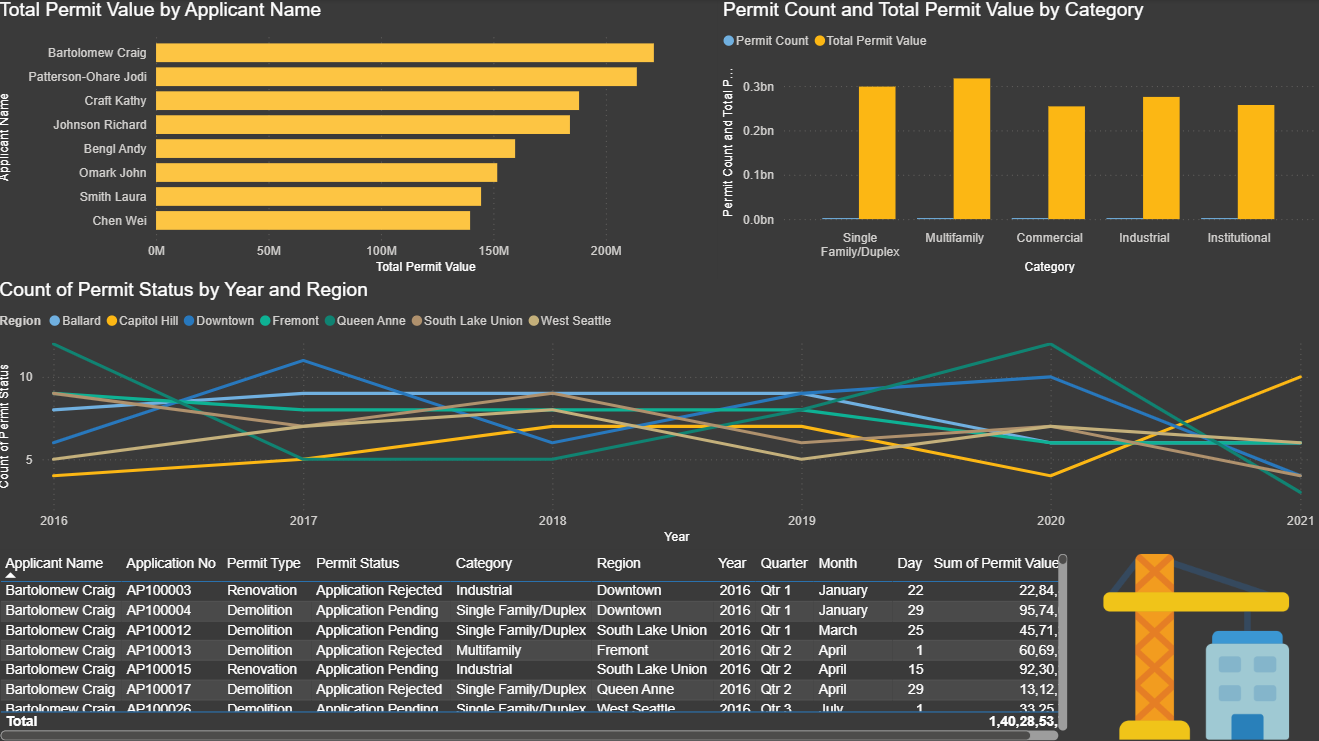

This screenshot's page, from the dashboard's own definition file:
{"tool":"powerbi","page":{"name":"Page 2","canvas":[1280,720],"ordinal":1},"visuals":[{"type":"tableEx","fields":{"Values":["Sheet1.Applicant Name","Sheet1.Application No","Sheet1.Permit Type","Sheet1.Permit Status","Sheet1.Category","Sheet1.Region","Sheet1.Issue Date.Variation.Date Hierarchy.Year","Sheet1.Issue Date.Variation.Date Hierarchy.Quarter","Sheet1.Issue Date.Variation.Date Hierarchy.Month","Sheet1.Issue Date.Variation.Date Hierarchy.Day","Sum(Sheet1.Permit Value ($))"]},"box":[0,530.8,1041.2,189.4],"z":0},{"type":"clusteredBarChart","fields":{"Category":["Sheet1.Applicant Name"],"Y":["Sheet1.Total Permit Value"]},"box":[0,0,698.5,270.2],"z":1000},{"type":"lineChart","fields":{"Category":["Sheet1.Issue Date.Variation.Date Hierarchy.Year","Sheet1.Issue Date.Variation.Date Hierarchy.Quarter","Sheet1.Issue Date.Variation.Date Hierarchy.Month","Sheet1.Issue Date.Variation.Date Hierarchy.Day"],"Y":["CountNonNull(Sheet1.Permit Status)"],"Series":["Sheet1.Region"]},"box":[0,270.2,1280,260.6],"z":2000},{"type":"clusteredColumnChart","fields":{"Category":["Sheet1.Category"],"Y":["Sheet1.Permit Count","Sheet1.Total Permit Value"]},"box":[698.5,0,581.5,270.2],"z":3000},{"type":"image","box":[1041,531,239,189],"z":4000}]}

Visuals, with their boxes in screenshot pixels (x1, y1, x2, y2), scaled from the page's 1280x720 canvas onto the 1319x741 screenshot:
tableEx - Sheet1.Applicant Name x Sheet1.Application No: detection(0, 546, 1073, 740)
clusteredBarChart - Sheet1.Applicant Name x Sheet1.Total Permit Value: detection(0, 0, 720, 278)
lineChart - Sheet1.Issue Date.Variation.Date Hierarchy.Year x Sheet1.Issue Date.Variation.Date Hierarchy.Quarter: detection(0, 278, 1318, 546)
clusteredColumnChart - Sheet1.Category x Sheet1.Permit Count: detection(720, 0, 1318, 278)
image: detection(1073, 546, 1318, 740)
